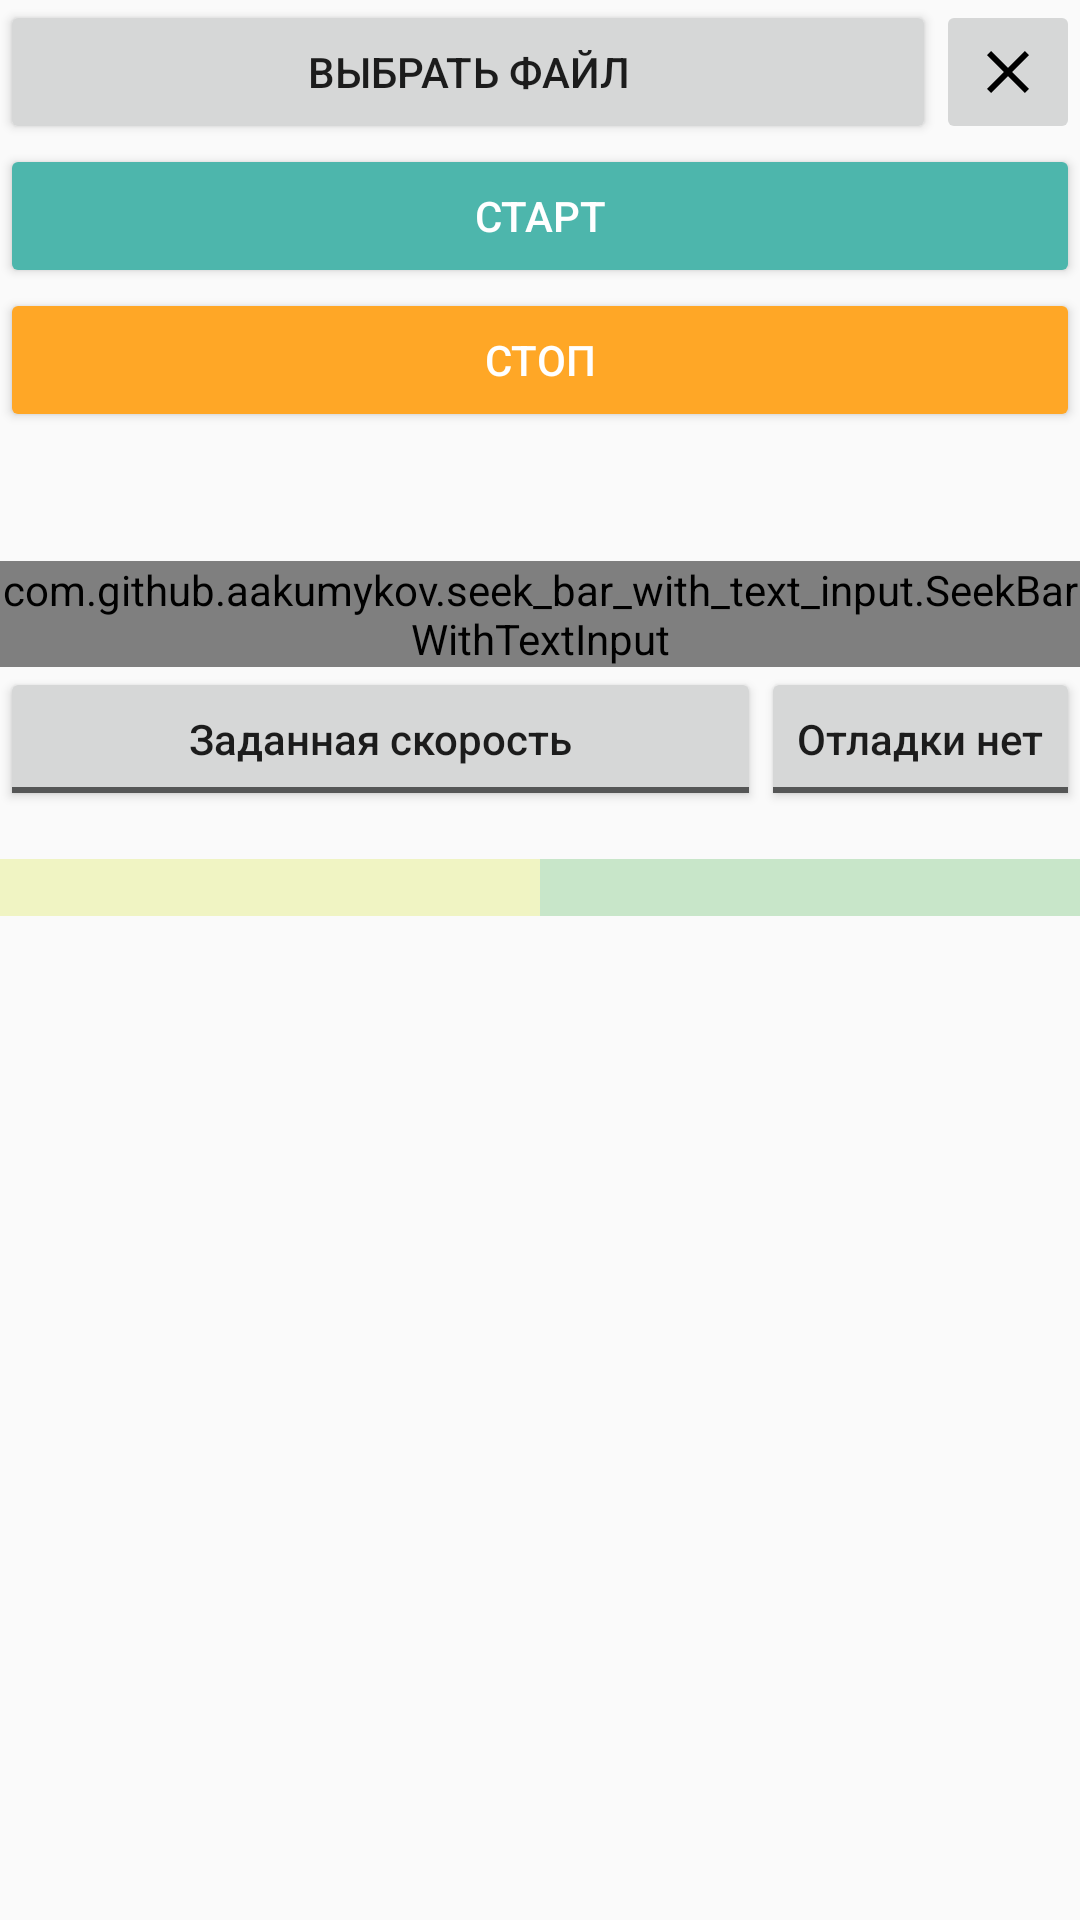

Named icons in this screenshot (1080×1920) and their centers, (x=x, y=y):
close: (x=1008, y=72)
